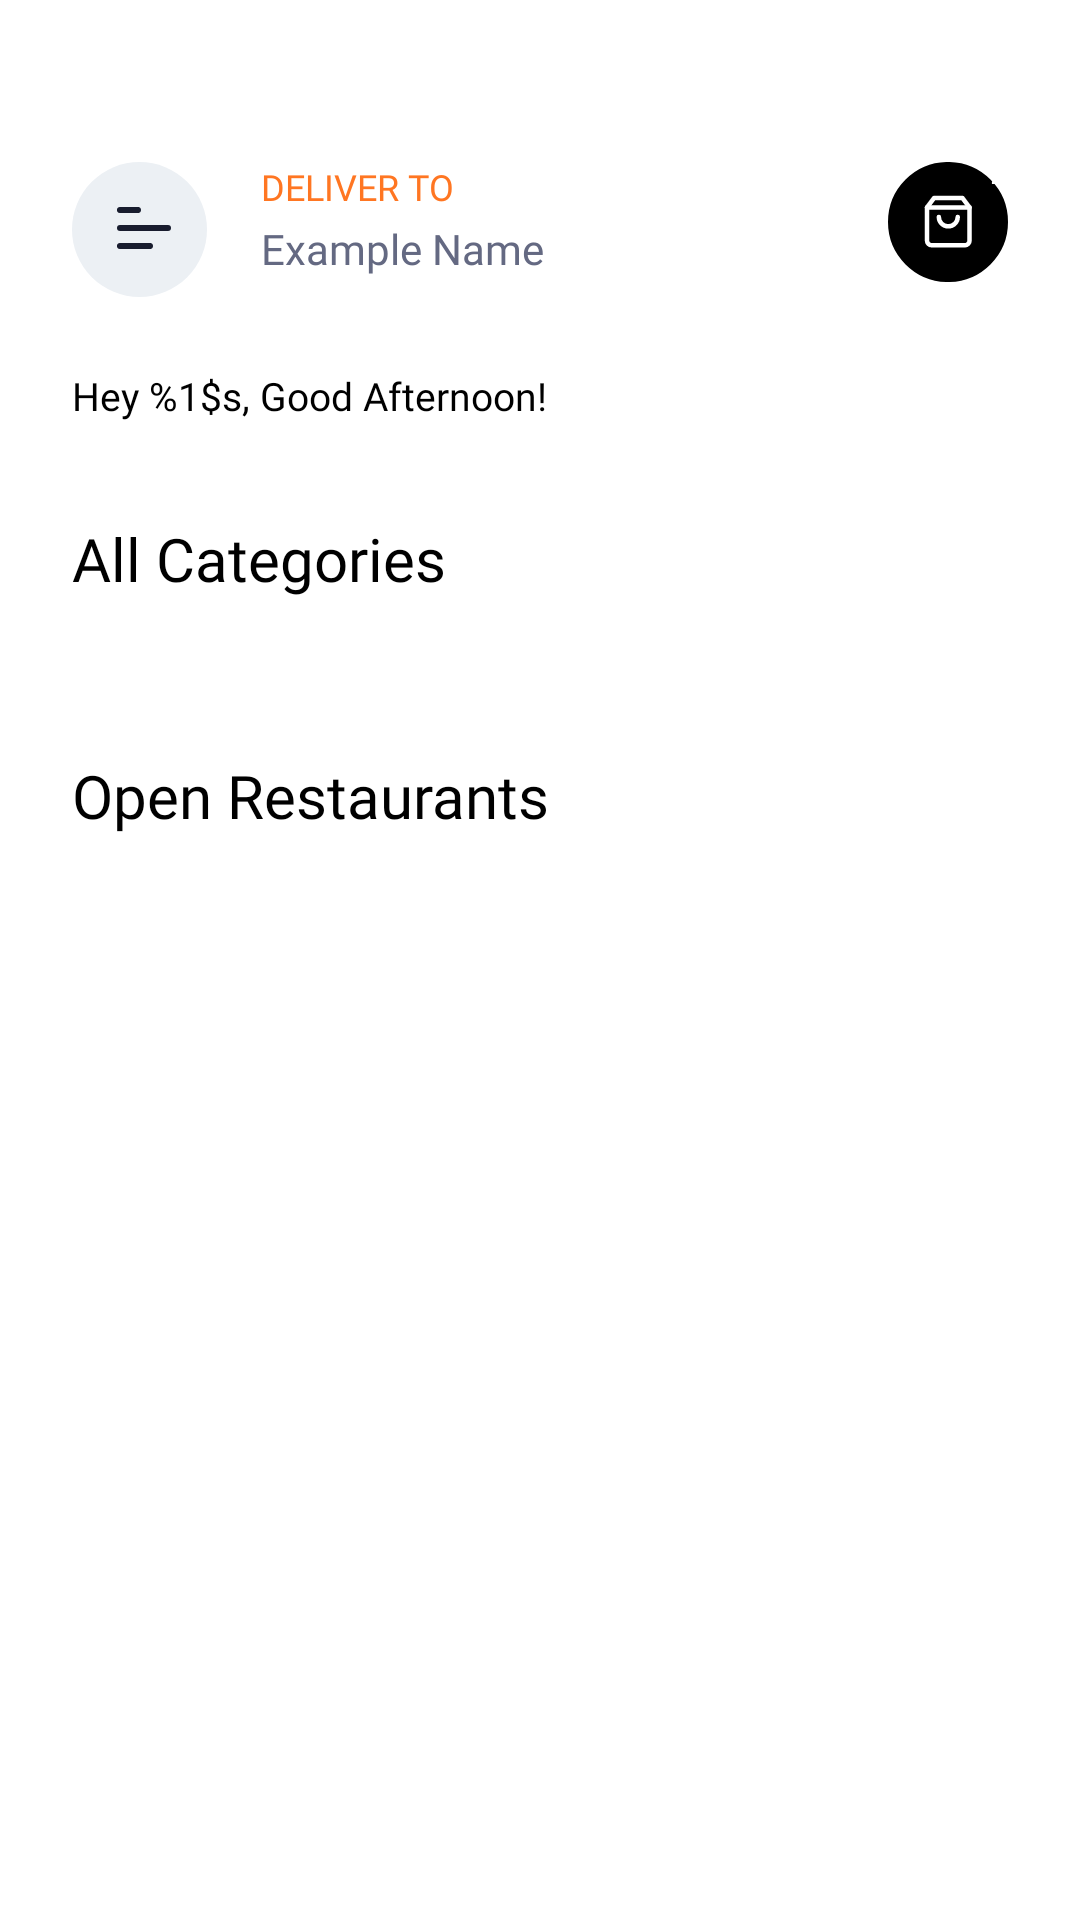

Icon bounding boxes for this 1080×1920 phone screenshot, format {"x1": x1, "y1": y1, "x2": x2, "y2": y2}:
cart: {"x1": 888, "y1": 162, "x2": 1008, "y2": 282}
menu: {"x1": 72, "y1": 162, "x2": 207, "y2": 297}
